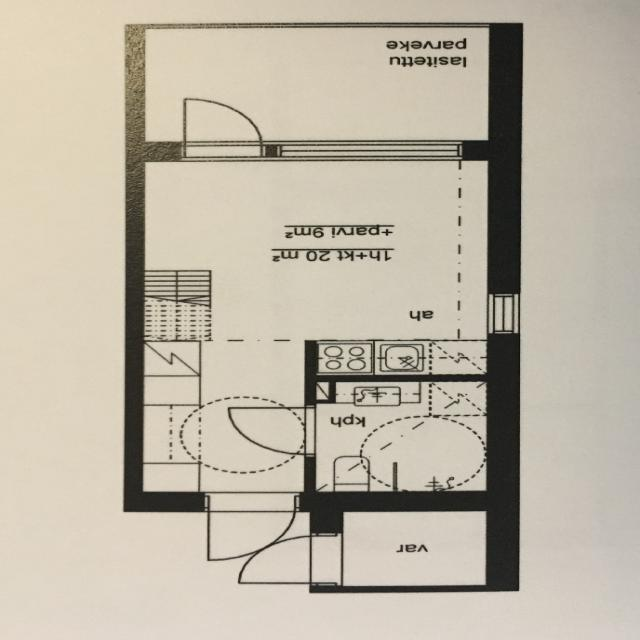door: (208, 492, 294, 564), (233, 536, 343, 583), (184, 94, 262, 160), (228, 408, 316, 454)
